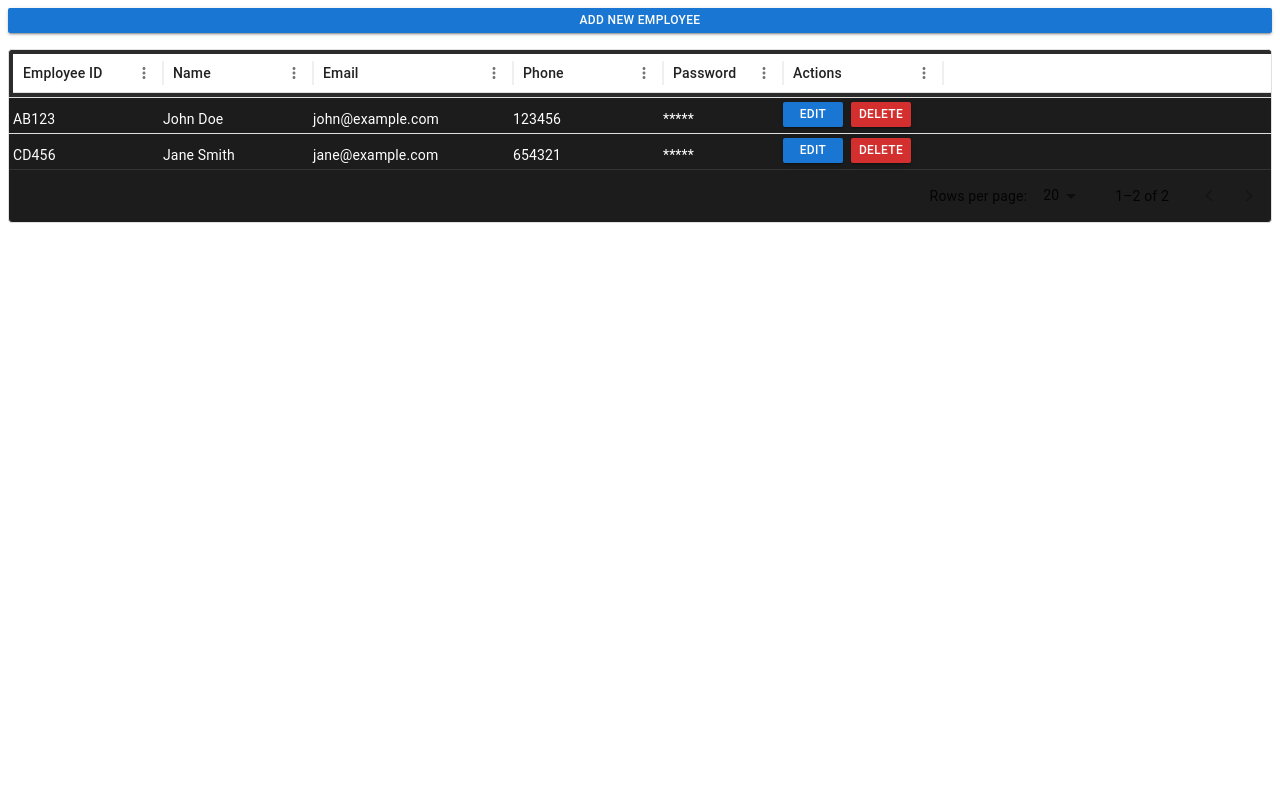
Test: EmployeeManagement › opens the edit dialog with correct data
The image size is (1280, 800).
Click the button "Edit" in the row of "AB123". click: coordinates (813, 114)
box: [783,102,843,127]
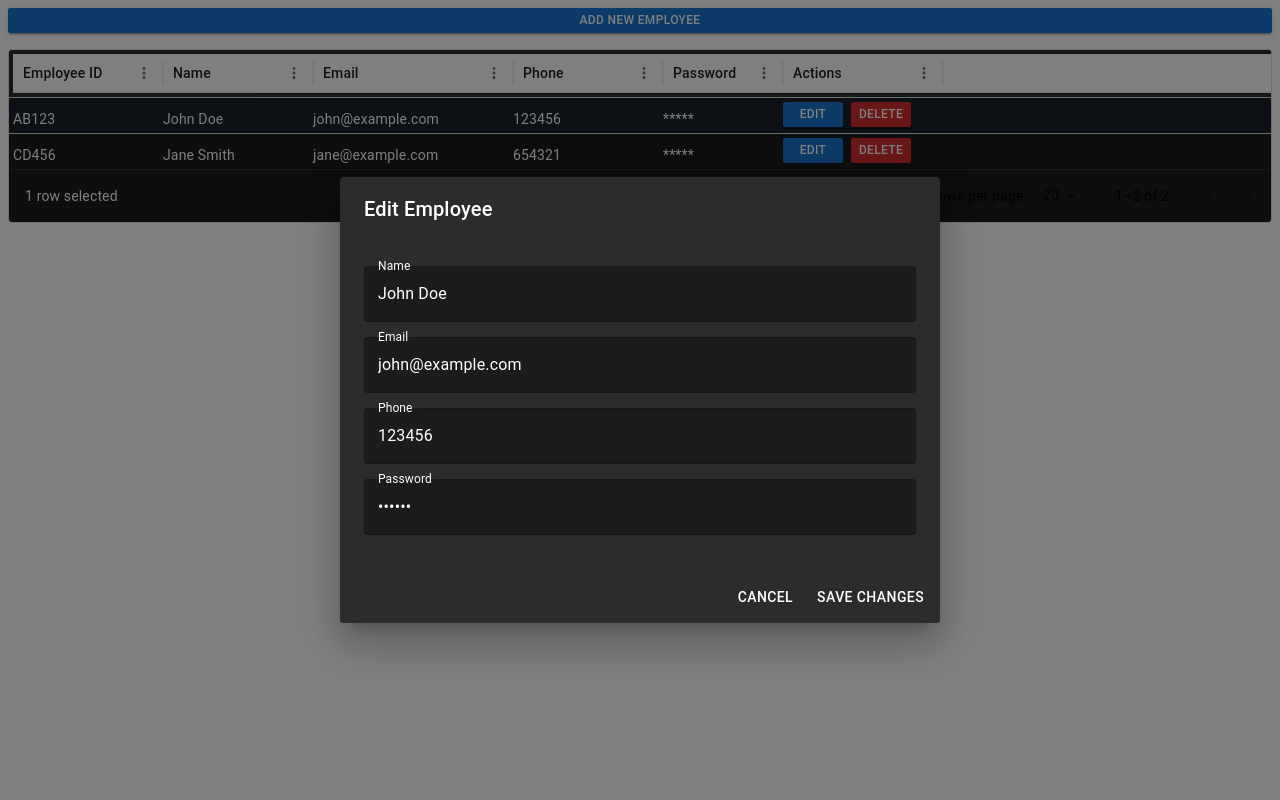
expect the heading "Edit Employee" is shown: met, box [364,197,492,221]
expect the field showing "John Doe" is shown: met, box [364,266,916,322]
